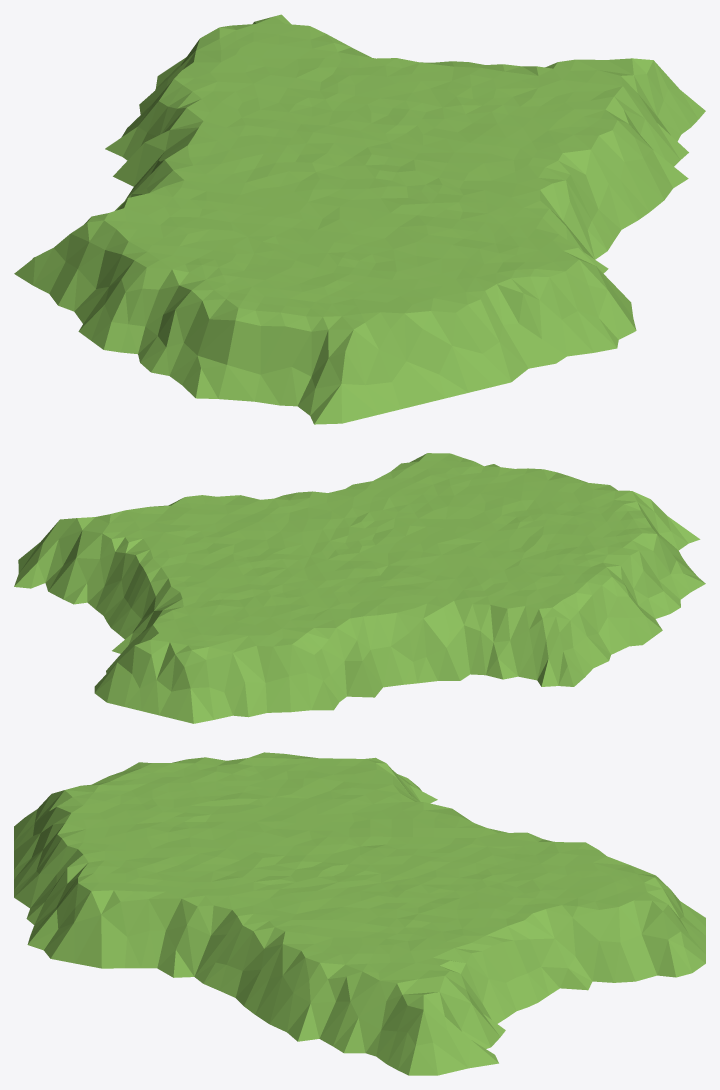
The model's file is MT_Island_L_a_03.fbx.
3 renders of one model, top to bottom at view 1: azimuth 30°, elevation 25°; view 2: azimuth 150°, elevation 25°; view 3: azimuth 270°, elevation 25°, orthographic. The views are drawn at different scales.
Visible parts, largest first — view 1: MT_Island_L_a_03; view 2: MT_Island_L_a_03; view 3: MT_Island_L_a_03.
Boxes of the visible parts, bbox=[...] form: MT_Island_L_a_03: bbox=[14, 14, 705, 424]; MT_Island_L_a_03: bbox=[14, 453, 705, 723]; MT_Island_L_a_03: bbox=[14, 752, 705, 1075].
Size of the model in its own units: 10168 by 889 by 10168.
